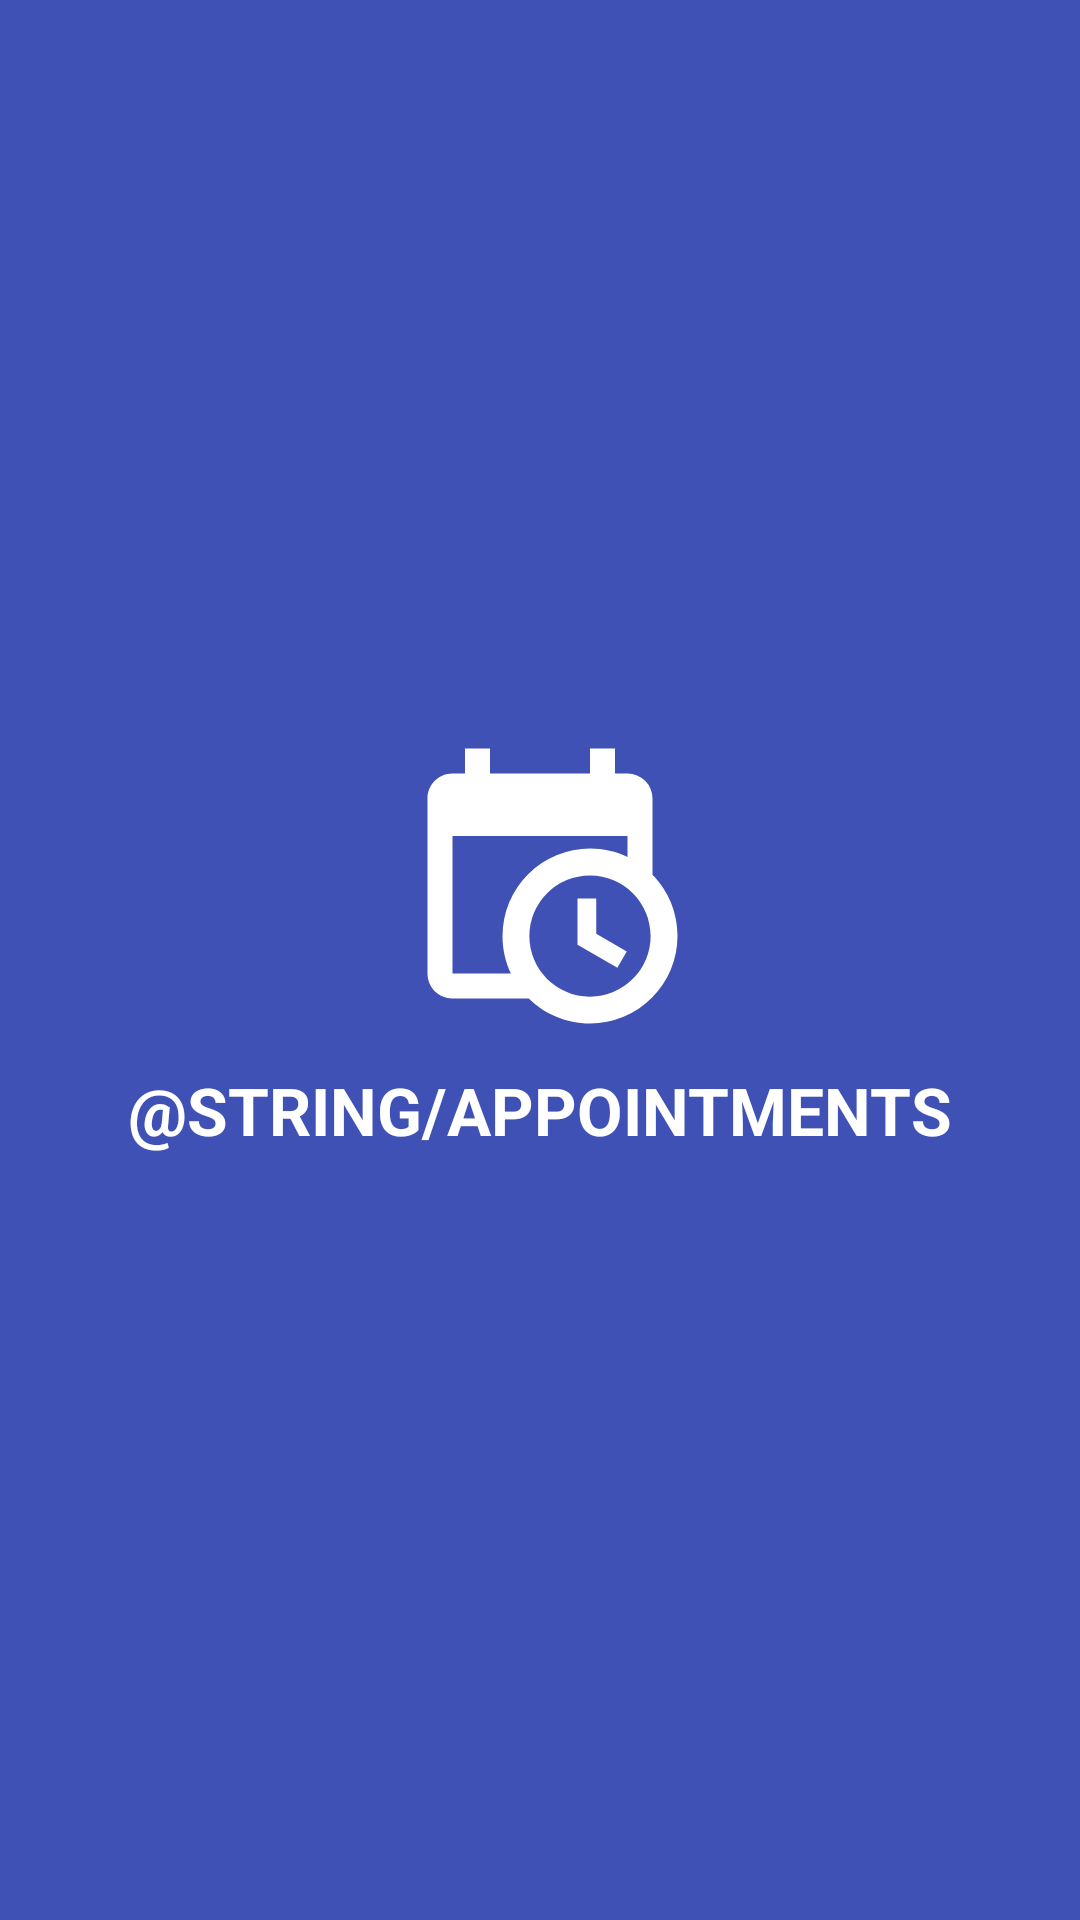

Point at icon controls on the screen. Image size 1080px×1920px, points as [x,y].
calendar clock: [552,886]
